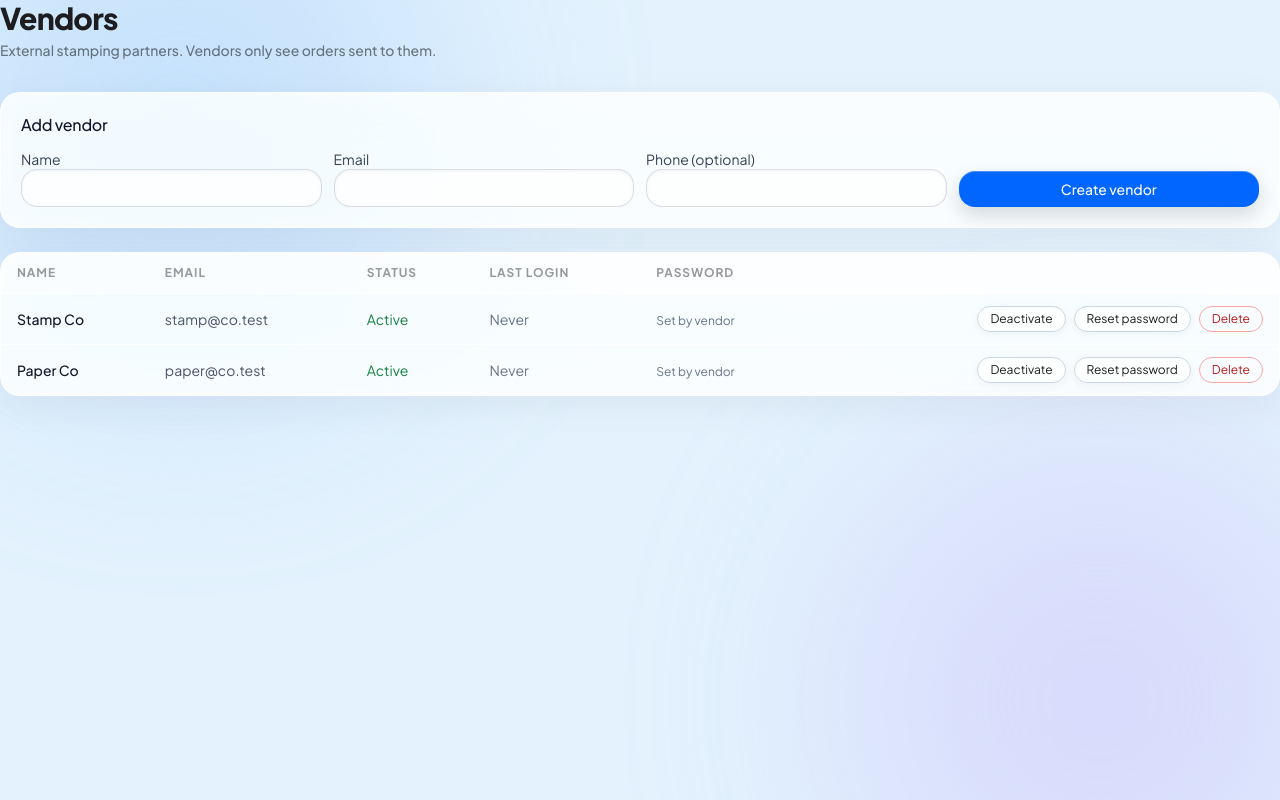
Test case: Delete vendor › shows the server's 409 message when orders are still with the vendor and keeps the row
The image size is (1280, 800).
Click the button with aria-label "Delete Stamp Co": (1231, 319) 1199,306 -> 1263,332
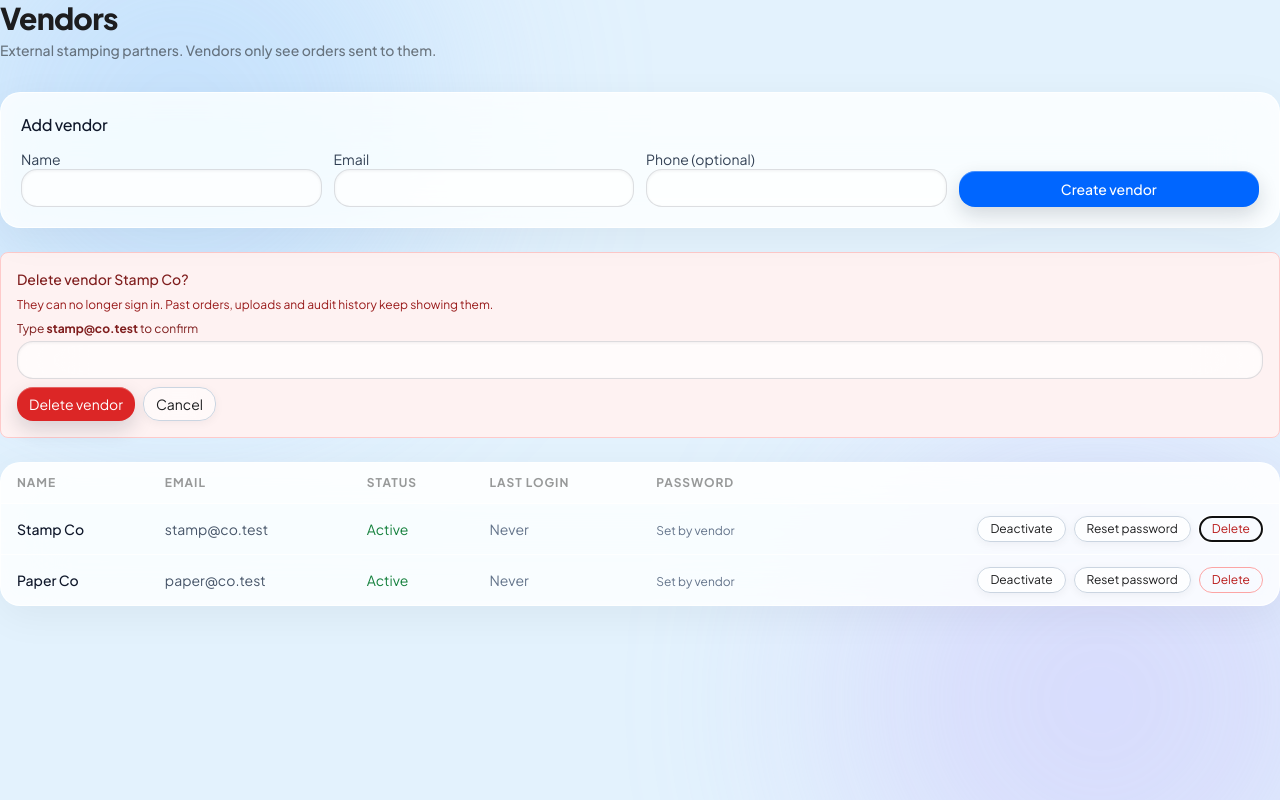
In the field named "Vendor email to confirm": (640, 360) 17,341 -> 1263,379, type "stamp@co.test"
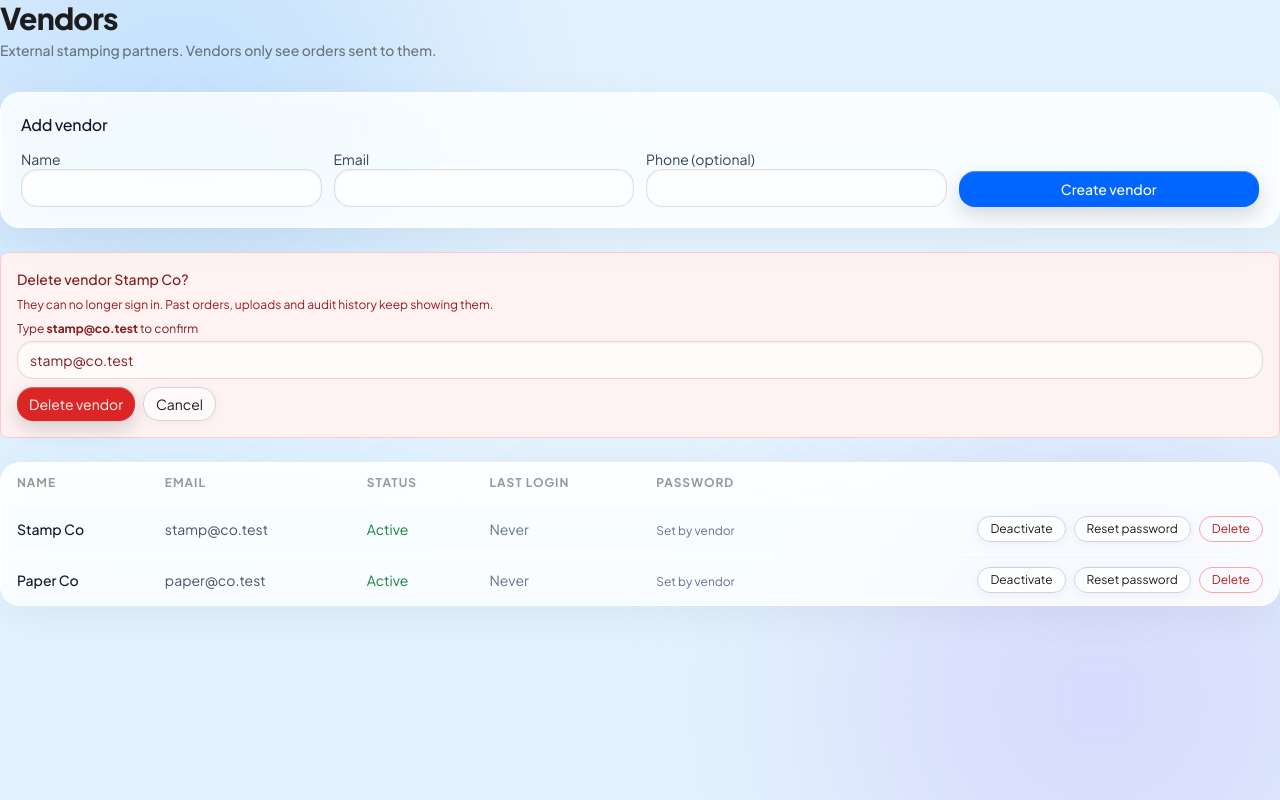
Click the button "Delete vendor": (76, 404) 17,387 -> 135,421
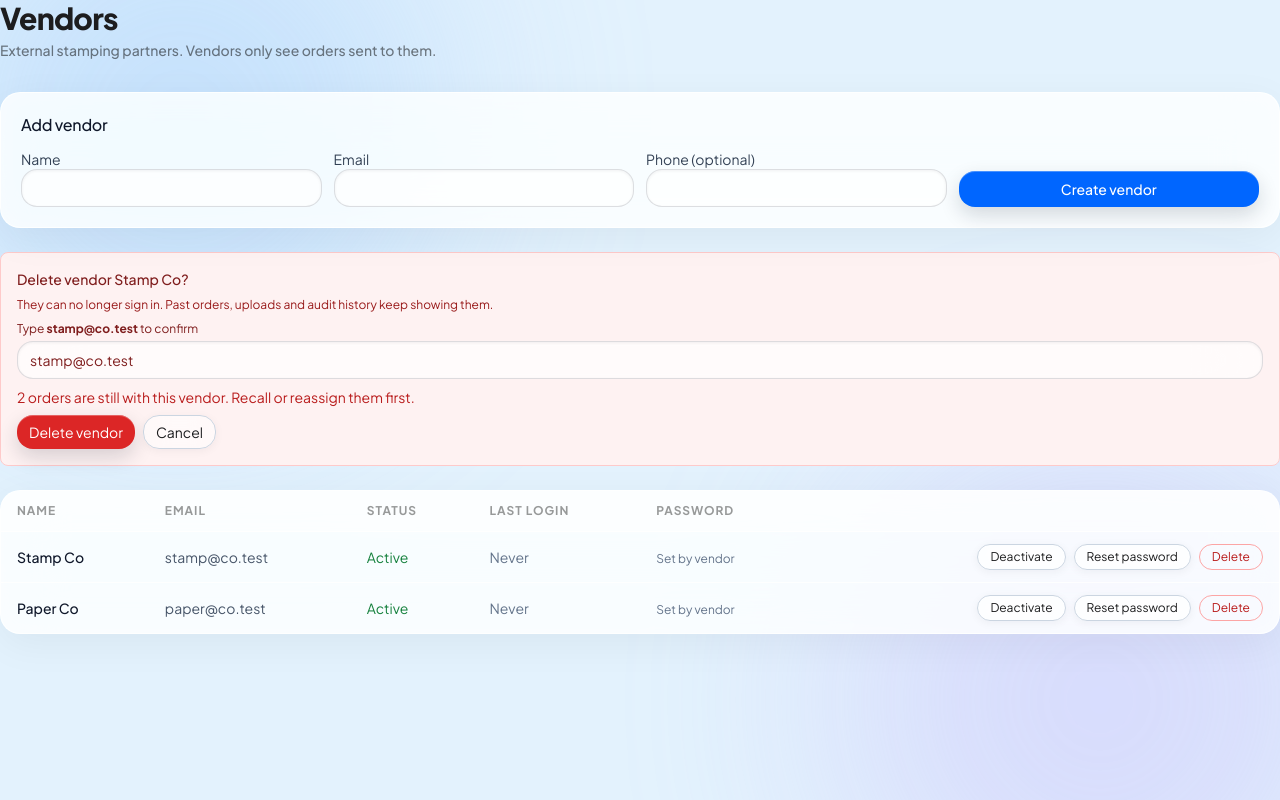
expect the text "Stamp Co" is shown: met, box 1,532 -> 149,582
expect the text "2 orders are still with this vendor. Recall or reassign them first." is shown: met, box 17,388 -> 415,406
